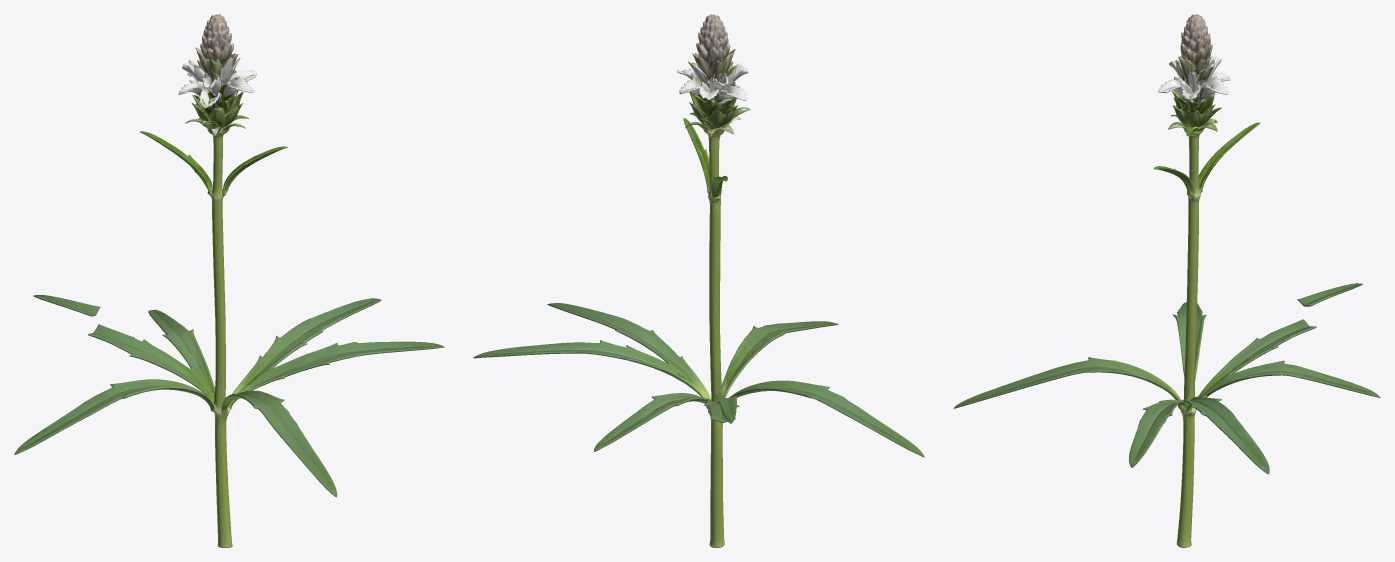
Rendered from jingjie.glb.
3 views of the same model, side by side, from view 1: azimuth 30°, elevation 25°; view 2: azimuth 150°, elevation 25°; view 3: azimuth 270°, elevation 25° (orthographic).
Visible parts, largest first — view 1: node_0; view 2: node_0; view 3: node_0.
Boxes of the visible parts, x1,y1,x2,y2 form: node_0: (14, 14, 444, 547); node_0: (473, 14, 924, 547); node_0: (953, 14, 1380, 547).
Bounding box in the file's own units: 0.9596 × 1.19 × 0.8731.
Materials: 1 (1 with a texture image).
